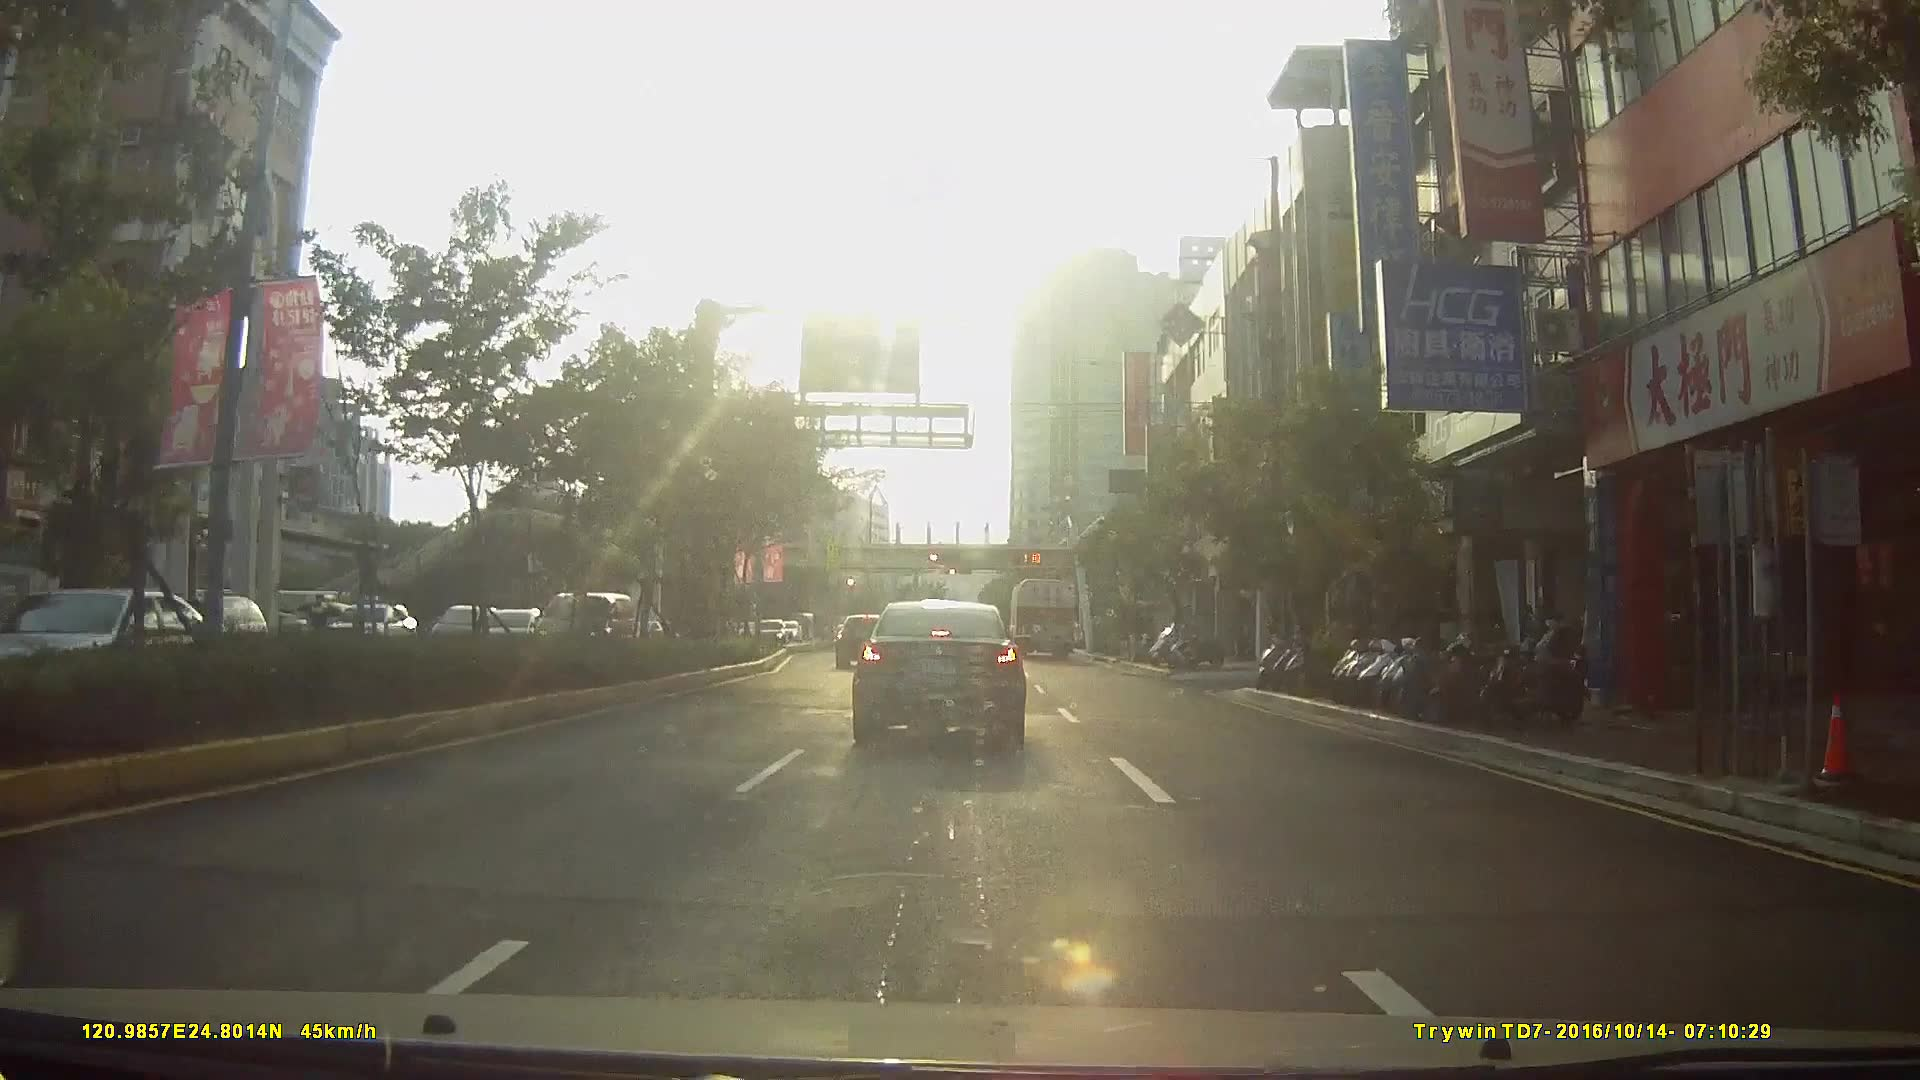vehicle: (1, 584, 266, 698), (851, 588, 1026, 744), (15, 583, 135, 661), (531, 589, 641, 655), (156, 593, 261, 659), (1006, 574, 1080, 659), (832, 611, 891, 667), (750, 615, 786, 644)
